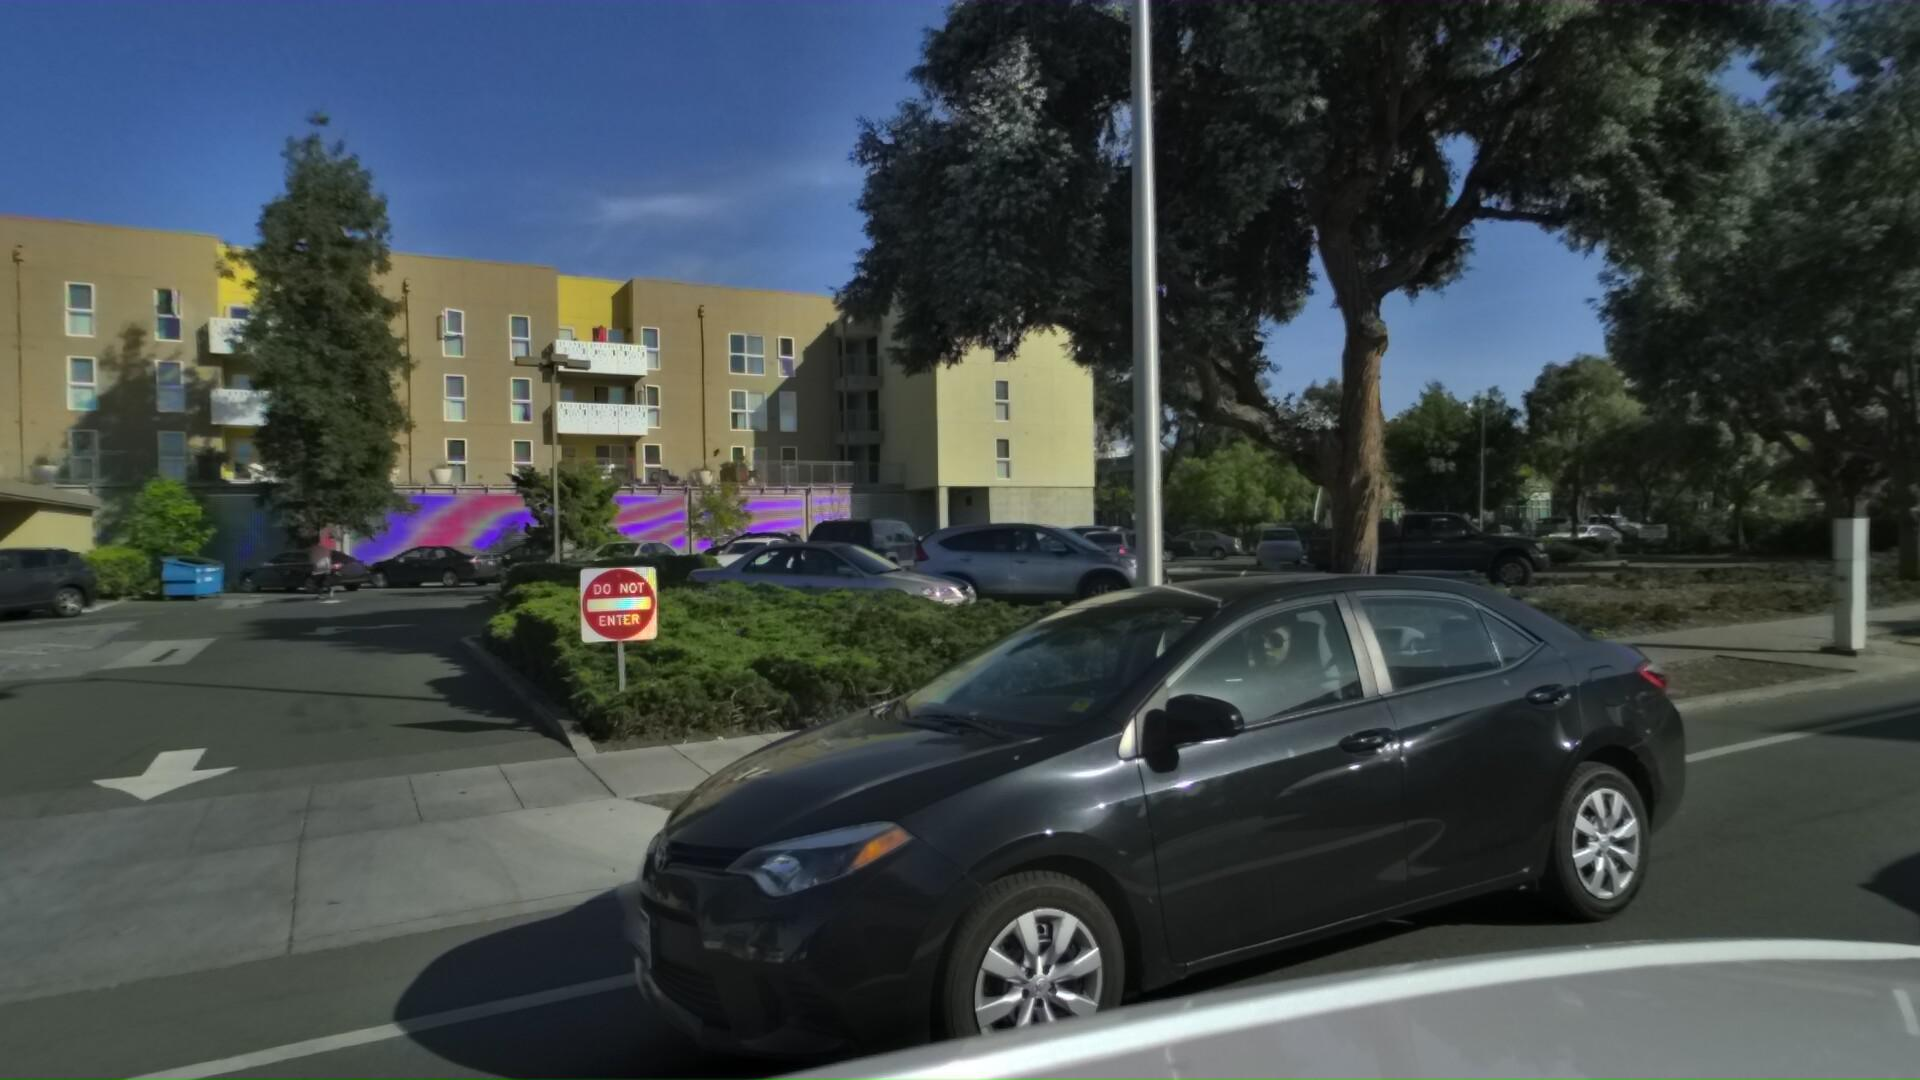car: (487, 549, 1716, 1080), (673, 526, 996, 638), (894, 505, 1180, 611), (1284, 497, 1552, 585), (0, 539, 108, 630)
